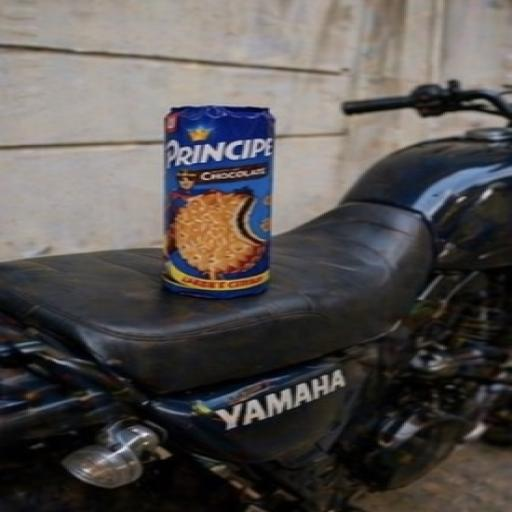prince: (66, 55, 364, 359)
